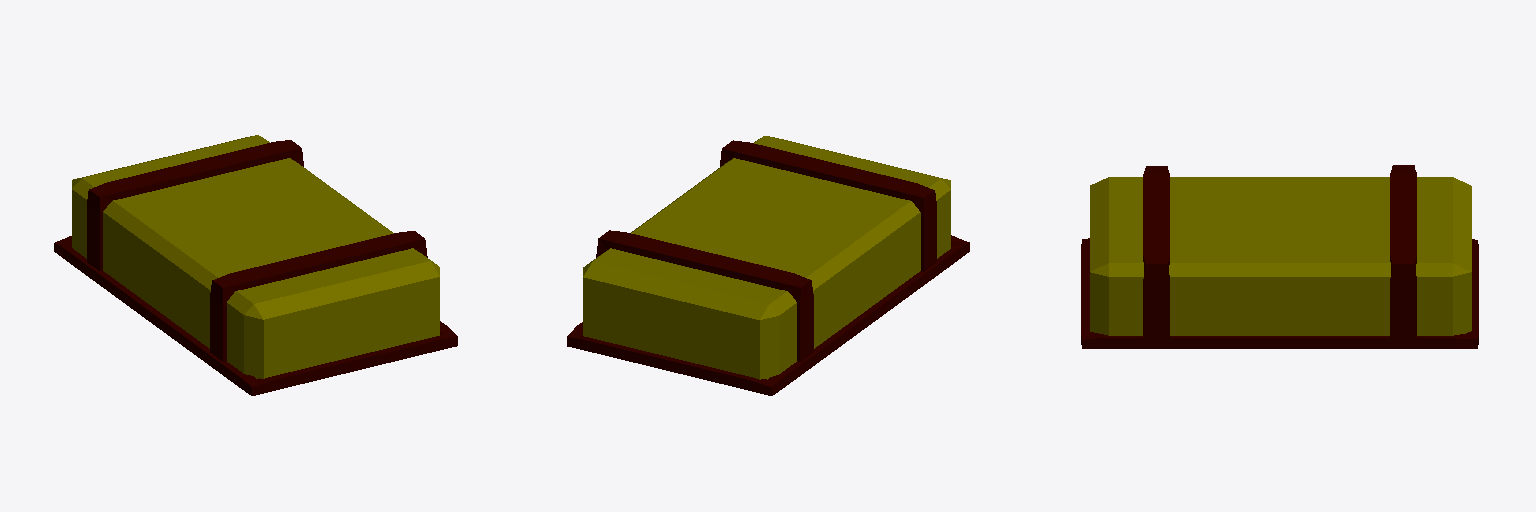
Rendered from Chest.obj.
3 views of the same model, side by side, from view 1: azimuth 30°, elevation 25°; view 2: azimuth 150°, elevation 25°; view 3: azimuth 270°, elevation 25° (orthographic).
Parts seen in each view (by area): view 1: Cube.021, Cube.006, Cube.003, Cube.013, Cube.016, Cube.020, Cube.017; view 2: Cube.021, Cube.006, Cube.003, Cube.013, Cube.014, Cube.017, Cube.020; view 3: Cube.021, Cube.015, Cube.003, Cube.006, Cube.018, Cube.019, Cube.016, Cube.014.
Part boxes in pixels (x1,y1,x2,y2): Cube.021: (72, 135, 439, 378); Cube.006: (90, 140, 301, 202); Cube.003: (214, 231, 424, 291); Cube.013: (55, 243, 257, 395); Cube.016: (253, 334, 456, 395); Cube.020: (210, 280, 233, 361); Cube.017: (87, 189, 109, 271); Cube.021: (583, 136, 950, 379); Cube.006: (598, 230, 809, 292); Cube.003: (722, 140, 932, 202); Cube.013: (768, 241, 969, 395); Cube.014: (567, 333, 771, 395); Cube.017: (790, 280, 813, 361); Cube.020: (914, 190, 936, 271); Cube.021: (1090, 177, 1471, 335); Cube.015: (1082, 333, 1476, 348); Cube.003: (1143, 166, 1169, 268); Cube.006: (1390, 166, 1416, 267); Cube.018: (1390, 264, 1416, 337); Cube.019: (1143, 265, 1169, 337); Cube.016: (1081, 241, 1093, 344); Cube.014: (1466, 240, 1478, 348).
Size of the model in its own units: 2.22 by 0.877 by 3.68.